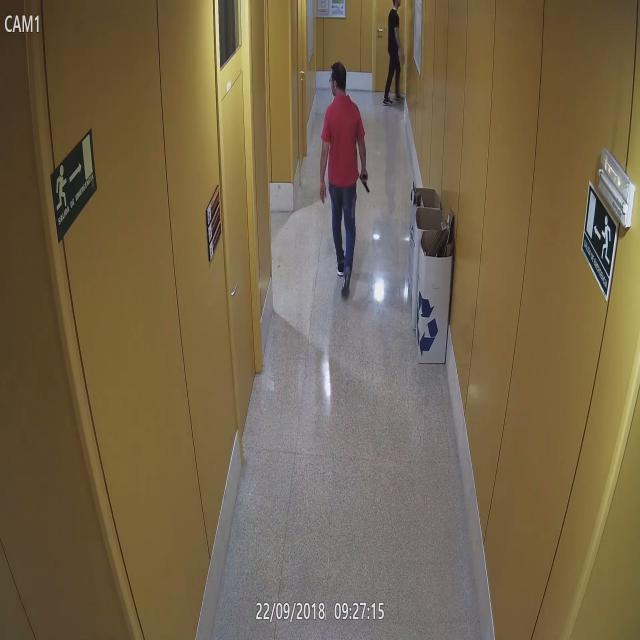Gun: (358, 170, 371, 194), (398, 49, 404, 68)
